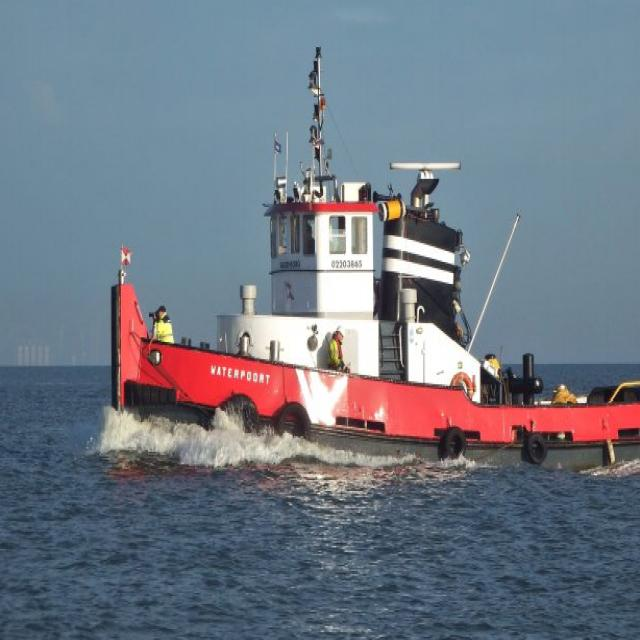tugboat: (104, 152, 640, 487)
